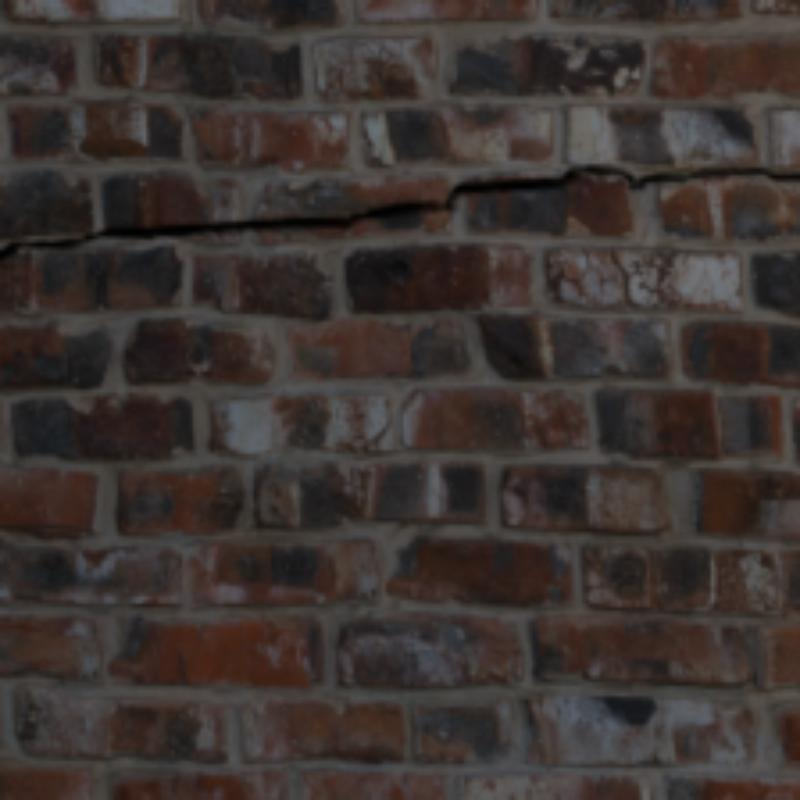pothole: (0, 164, 796, 257), (611, 250, 636, 304), (364, 425, 389, 446)
